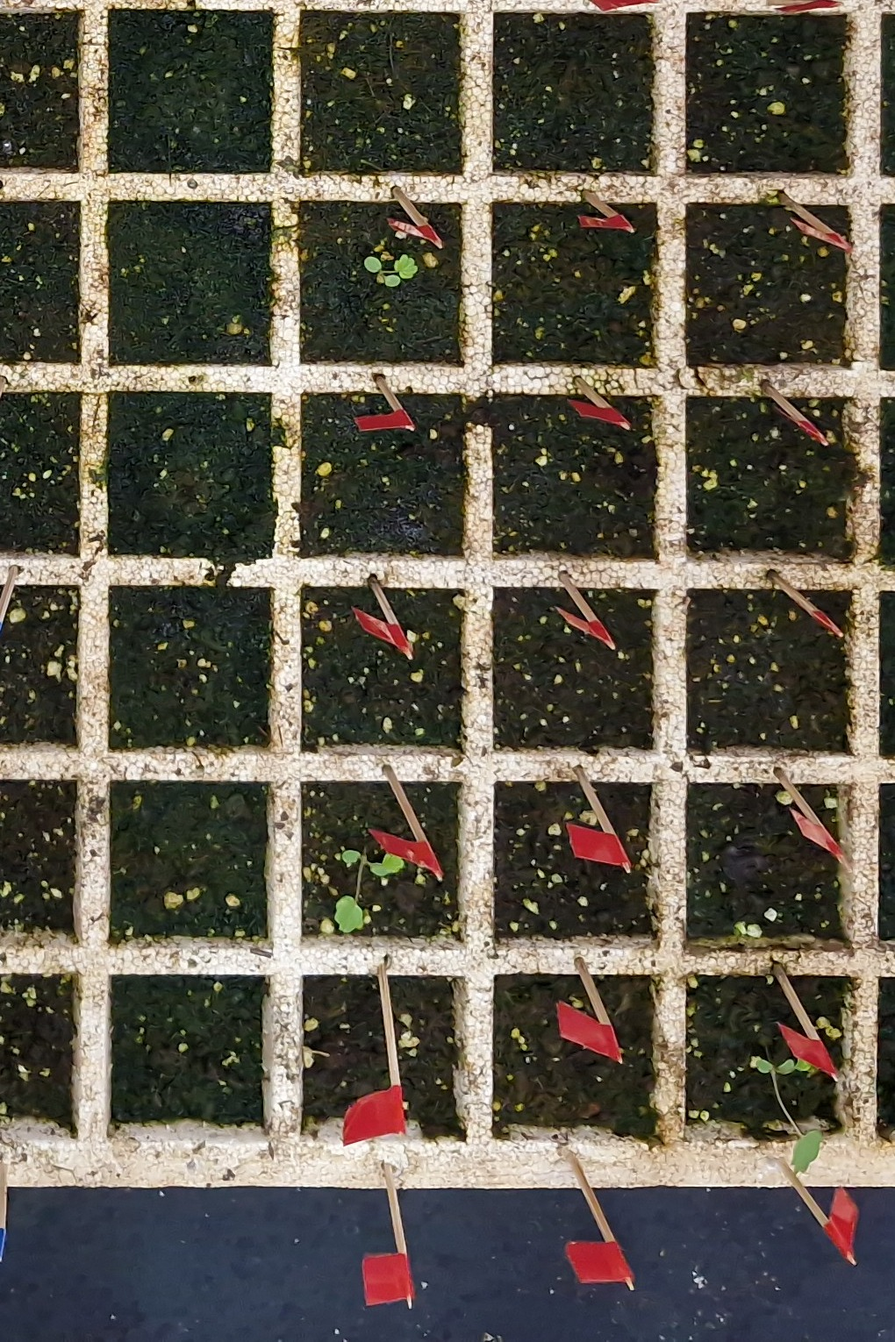Folha: (790, 1129, 823, 1175), (336, 896, 362, 933), (394, 255, 418, 278), (383, 853, 403, 872), (364, 256, 382, 273), (777, 1060, 795, 1074), (372, 862, 390, 875), (756, 1060, 773, 1073), (343, 850, 361, 862), (385, 275, 400, 286)
Germinacao: (756, 1059, 823, 1173), (334, 849, 403, 932), (364, 254, 418, 286)
